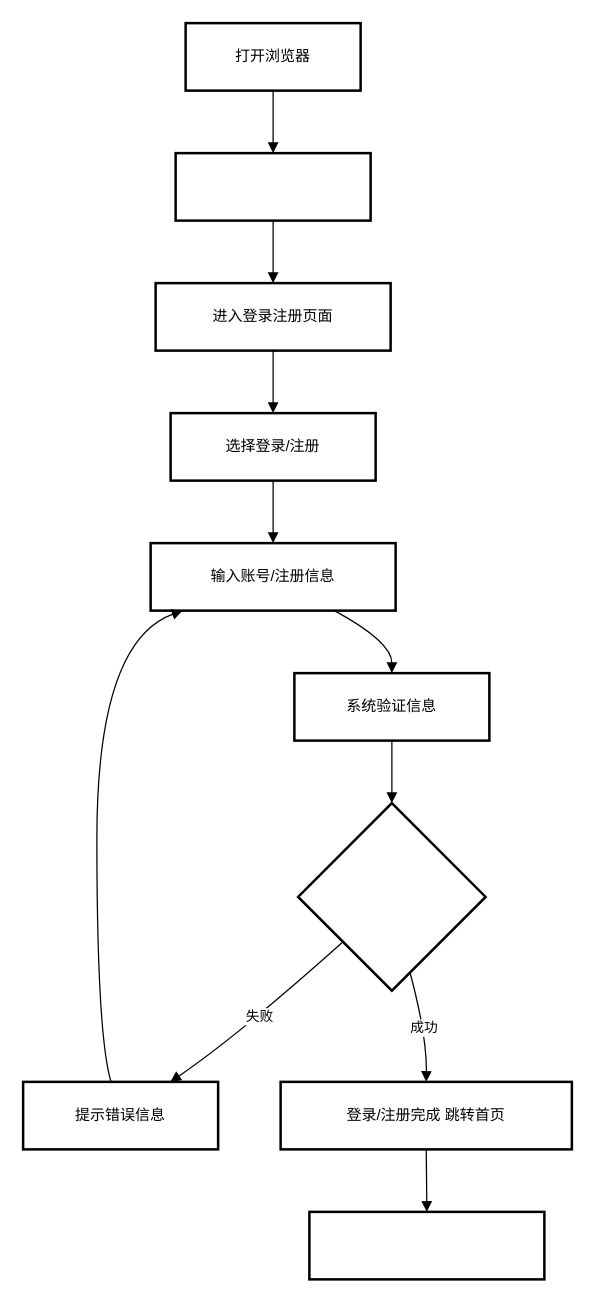
Image size: 594x1301. Some labels were removed from this diagram. Here are the shapes that lost their labels. From the top down, the centre of each, then its label:
the point at 272,186: 访问系统地址
the point at 391,896: 验证是否成功
the point at 426,1245: 登录注册交互完成
